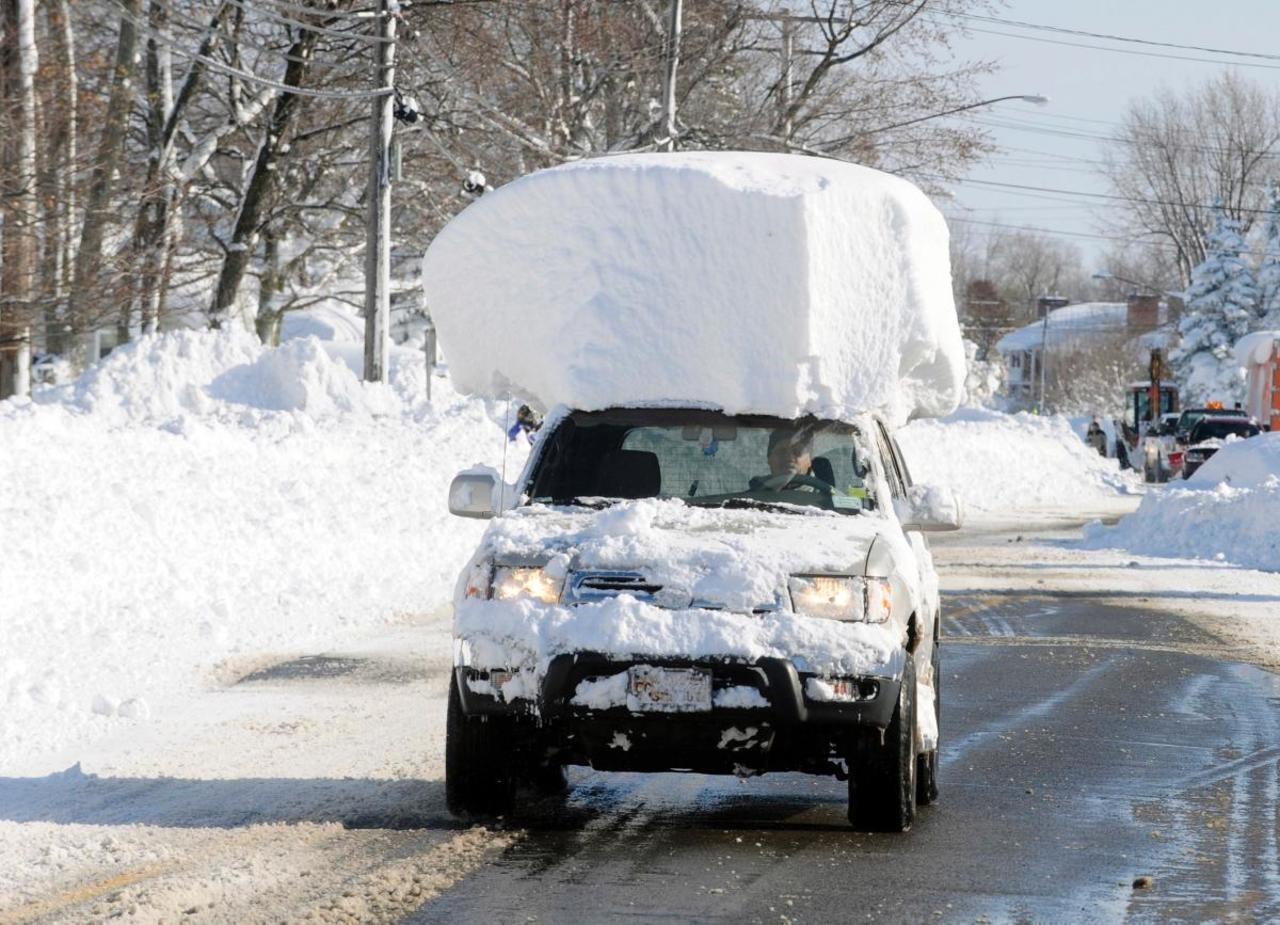car: (446, 390, 939, 832), (1185, 415, 1247, 483), (1145, 415, 1179, 479)
person: (741, 423, 837, 503)
